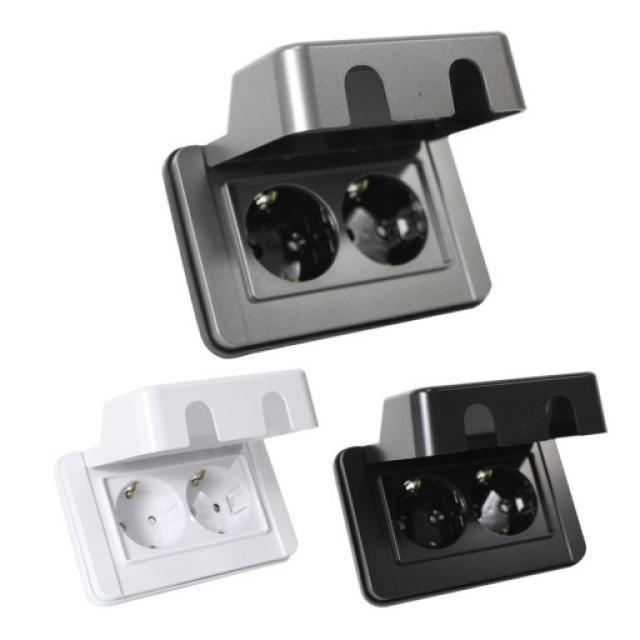typeb: (158, 30, 543, 345), (26, 363, 348, 605), (336, 360, 618, 611)
